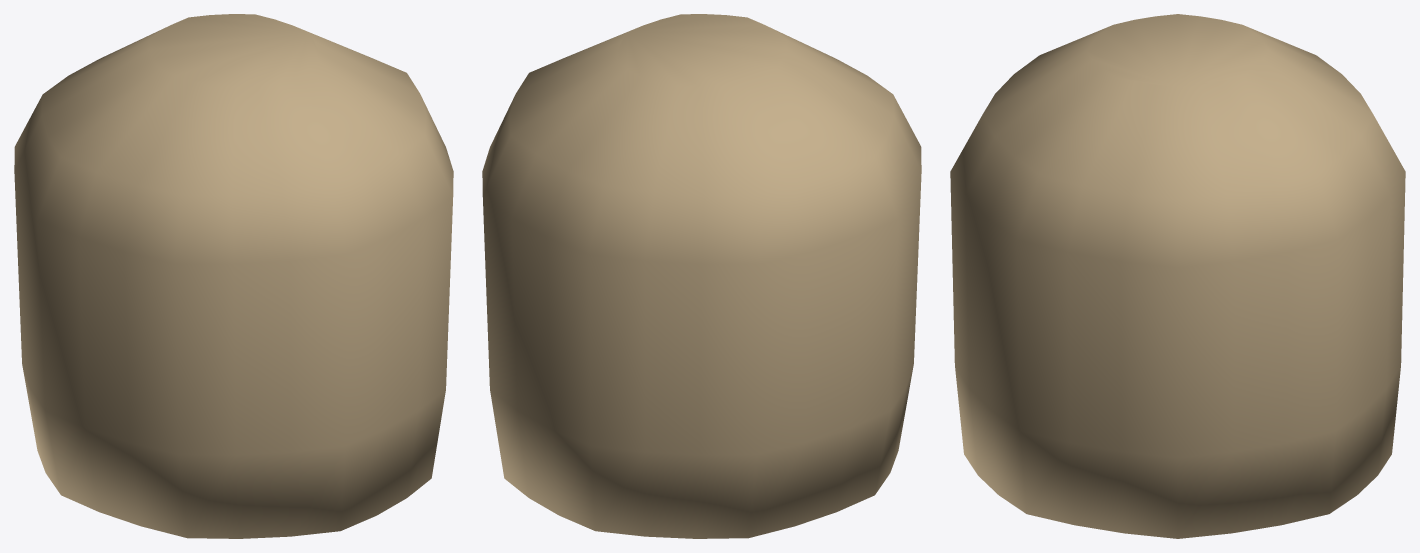
The model's file is SM_Jinyang_Tunic.fbx.
3 renders of one model, left to right at view 1: azimuth 30°, elevation 25°; view 2: azimuth 150°, elevation 25°; view 3: azimuth 270°, elevation 25°, orthographic.
Parts seen in each view (by area): view 1: SM_Jinyang_Tunic; view 2: SM_Jinyang_Tunic; view 3: SM_Jinyang_Tunic.
Part boxes in pixels (x1=…): SM_Jinyang_Tunic: x1=14, y1=14, x2=453, y2=538; SM_Jinyang_Tunic: x1=482, y1=14, x2=921, y2=538; SM_Jinyang_Tunic: x1=950, y1=14, x2=1405, y2=538.
Bounding box in the file's own units: 102 × 100 × 102.
